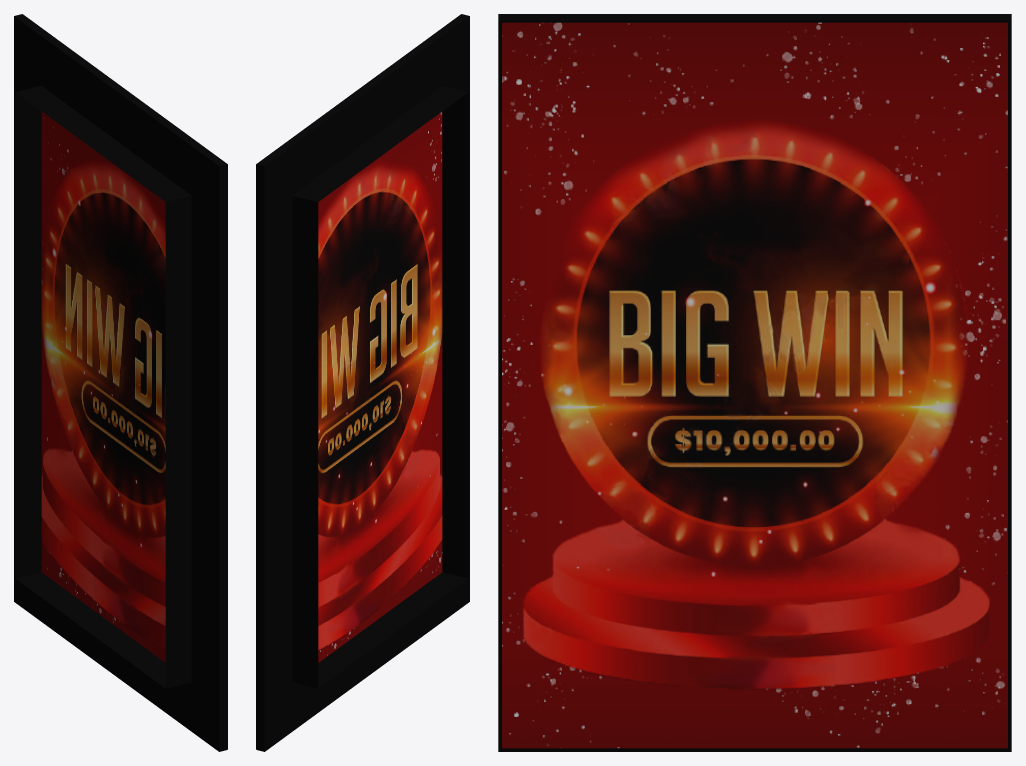
File: Cartel2.fbx
3 views of the same model, side by side, from view 1: azimuth 30°, elevation 25°; view 2: azimuth 150°, elevation 25°; view 3: azimuth 270°, elevation 25° (orthographic). The views are drawn at different scales.
Visible parts, largest first — view 1: big_screen1; view 2: big_screen1; view 3: big_screen1.
Boxes of the visible parts, x1=… form: big_screen1: x1=14, y1=14, x2=227, y2=751; big_screen1: x1=256, y1=14, x2=469, y2=751; big_screen1: x1=498, y1=14, x2=1011, y2=751.
Bounding box in the file's own units: 0.2108 × 3.38 × 2.14.
Materials: 2 (1 with a texture image).
